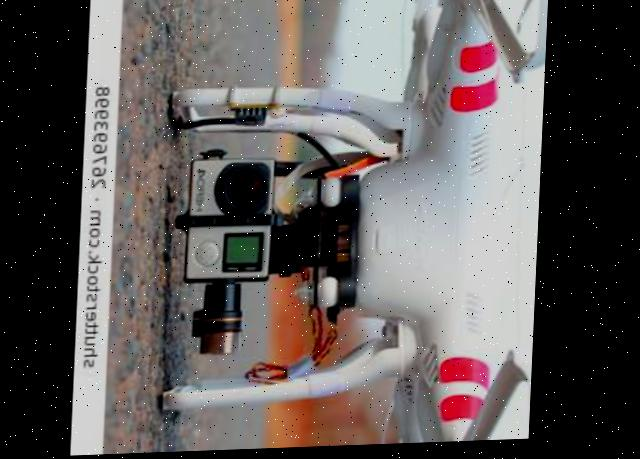drone: (126, 0, 544, 455)
